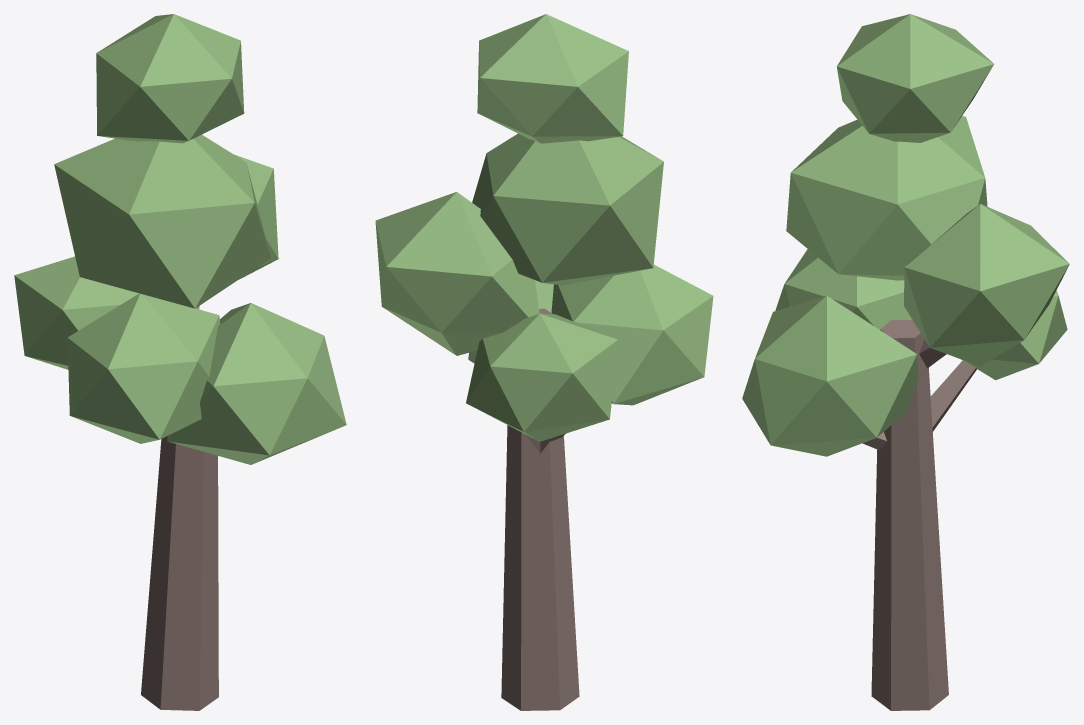
Rendered from arv_carvalho_3_sem_textura.glb.
The picture shows the model from 3 angles, left to right: view 1: azimuth 30°, elevation 25°; view 2: azimuth 150°, elevation 25°; view 3: azimuth 270°, elevation 25°; orthographic projection.
Visible parts, largest first — view 1: arv_carvalho_3; view 2: arv_carvalho_3; view 3: arv_carvalho_3.
Boxes of the visible parts, x1,y1,x2,y2 form: arv_carvalho_3: (14,14,346,710); arv_carvalho_3: (375,14,713,710); arv_carvalho_3: (742,14,1069,710).
Bounding box in the file's own units: 0.7876 × 1.94 × 0.8455.
